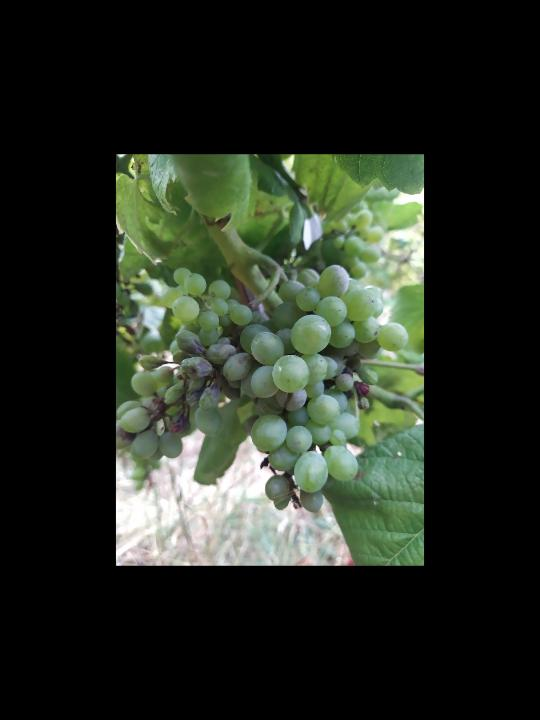grape: (125, 262, 409, 515)
